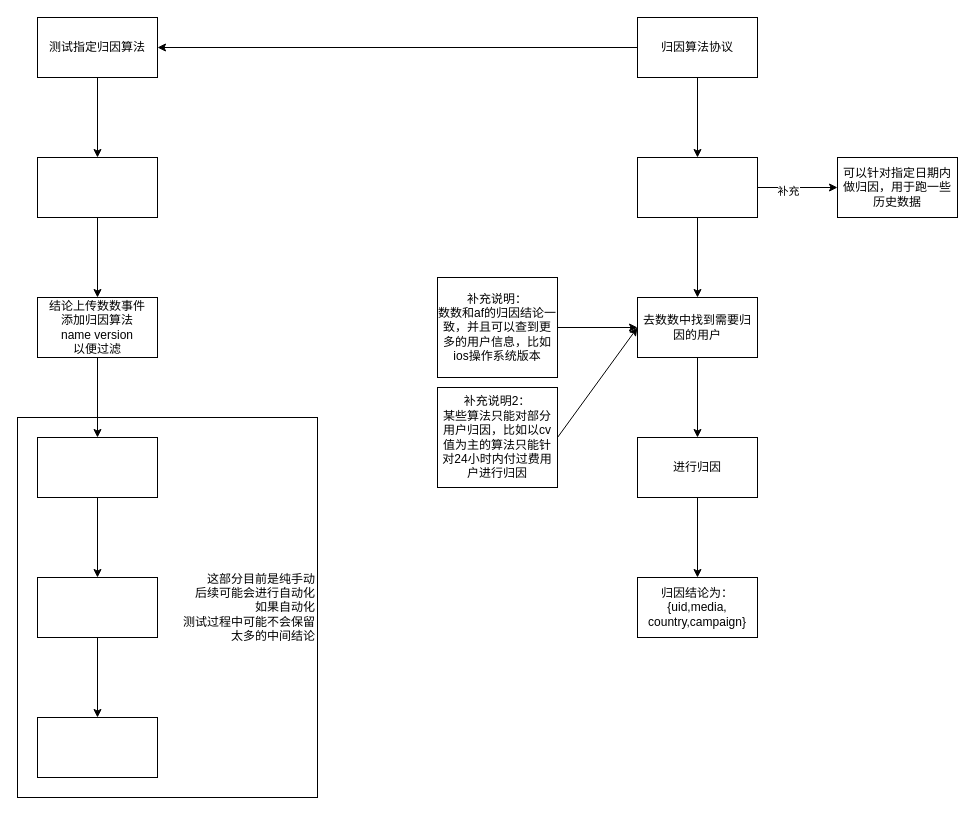
The diagram is 975 pixels wide and 815 high, and some of its shapes have lost their labels. Here are the shapes that lost their labels. From the top down, the centre of each, then its label:
At pixel 97 187: "调用指定归因算法".
At pixel 697 187: "拥有属性 name version".
At pixel 97 467: "手动将事件属性更新到用户属性，使用首末次标签".
At pixel 97 607: "再手动用虚拟属性，将用户分组，做成skan的预测正确、错误等".
At pixel 97 747: "再手动计算归因算法的准确度".
